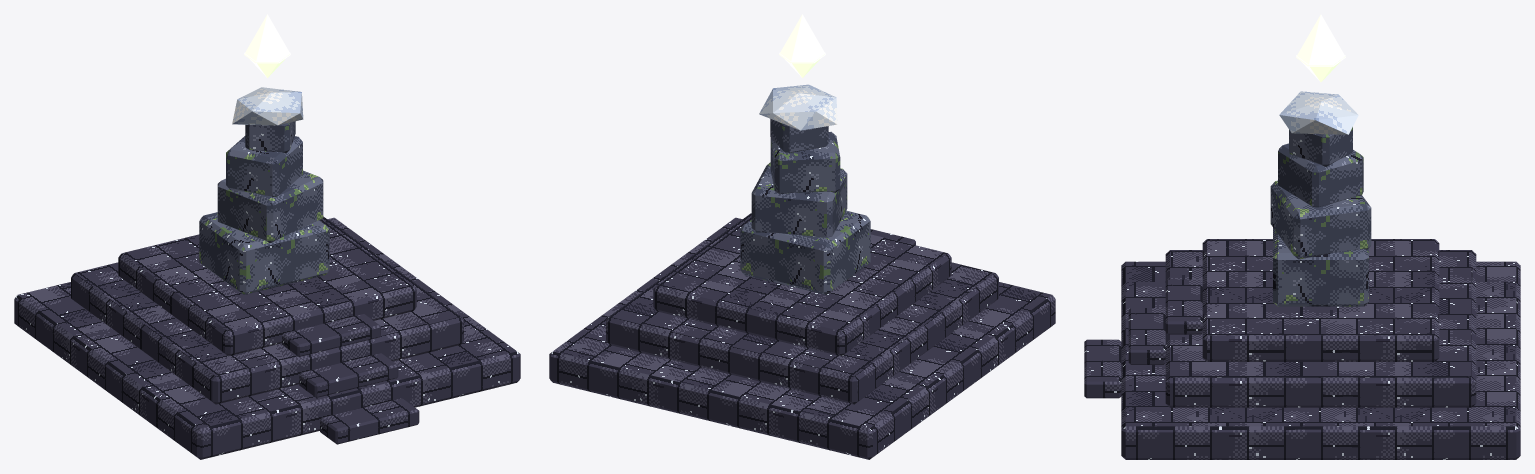
Rendered from summit_altar.glb.
The picture shows the model from 3 angles, left to right: view 1: azimuth 30°, elevation 25°; view 2: azimuth 150°, elevation 25°; view 3: azimuth 270°, elevation 25°; orthographic projection. The views are drawn at different scales.
Visible parts, largest first — view 1: Altar, Crystal; view 2: Altar, Crystal; view 3: Altar, Crystal.
Part boxes in pixels (x1=…): Altar: x1=14, y1=87, x2=520, y2=459; Crystal: x1=244, y1=14, x2=290, y2=77; Altar: x1=549, y1=84, x2=1055, y2=459; Crystal: x1=779, y1=14, x2=825, y2=77; Altar: x1=1084, y1=91, x2=1520, y2=459; Crystal: x1=1296, y1=14, x2=1345, y2=82.
Bounding box in the file's own units: 5.4 × 5.42 × 5.9.
Materials: 4 (3 with a texture image).
